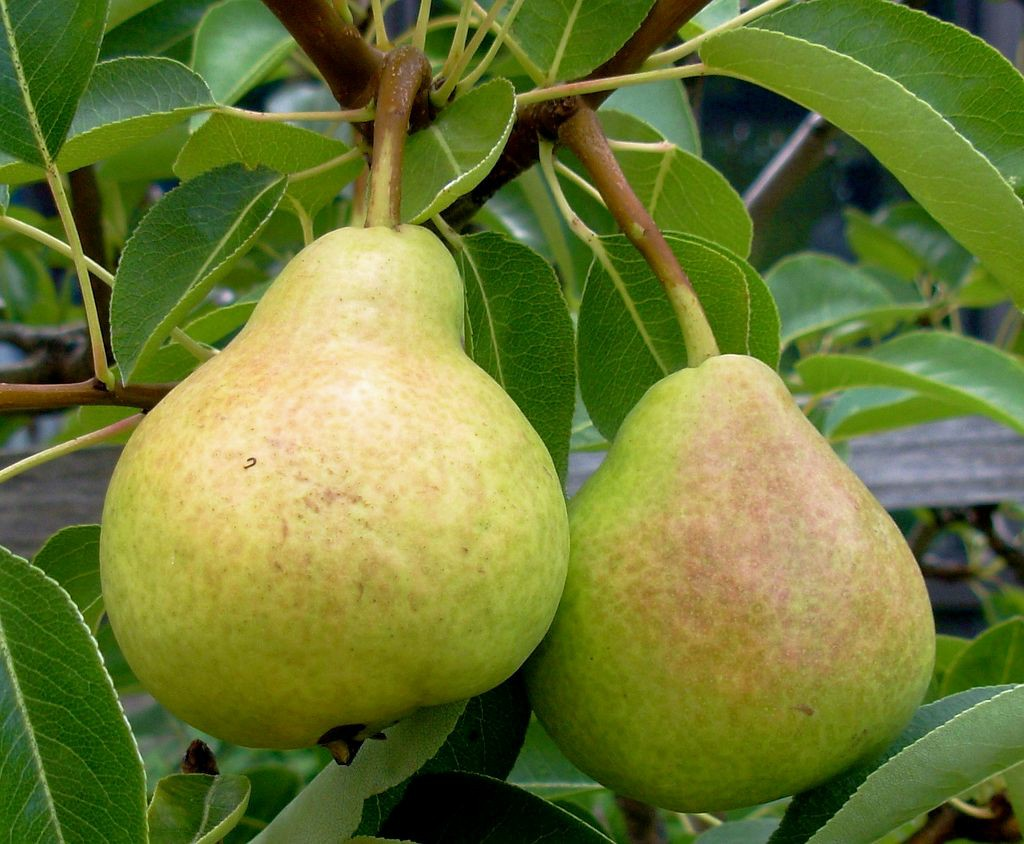pear: (97, 224, 567, 757), (527, 352, 935, 808)
